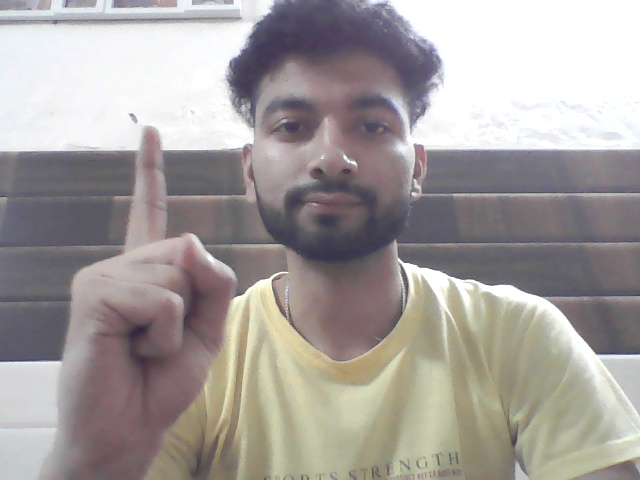Yes: (51, 120, 241, 463)
